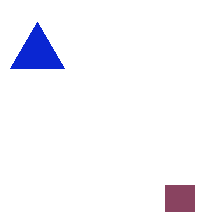rectangle: (165, 185, 194, 211)
triangle: (10, 22, 64, 68)
